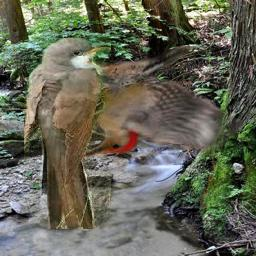Cuckoo: (25, 39, 112, 230)
Woodpecker: (79, 47, 245, 160)
